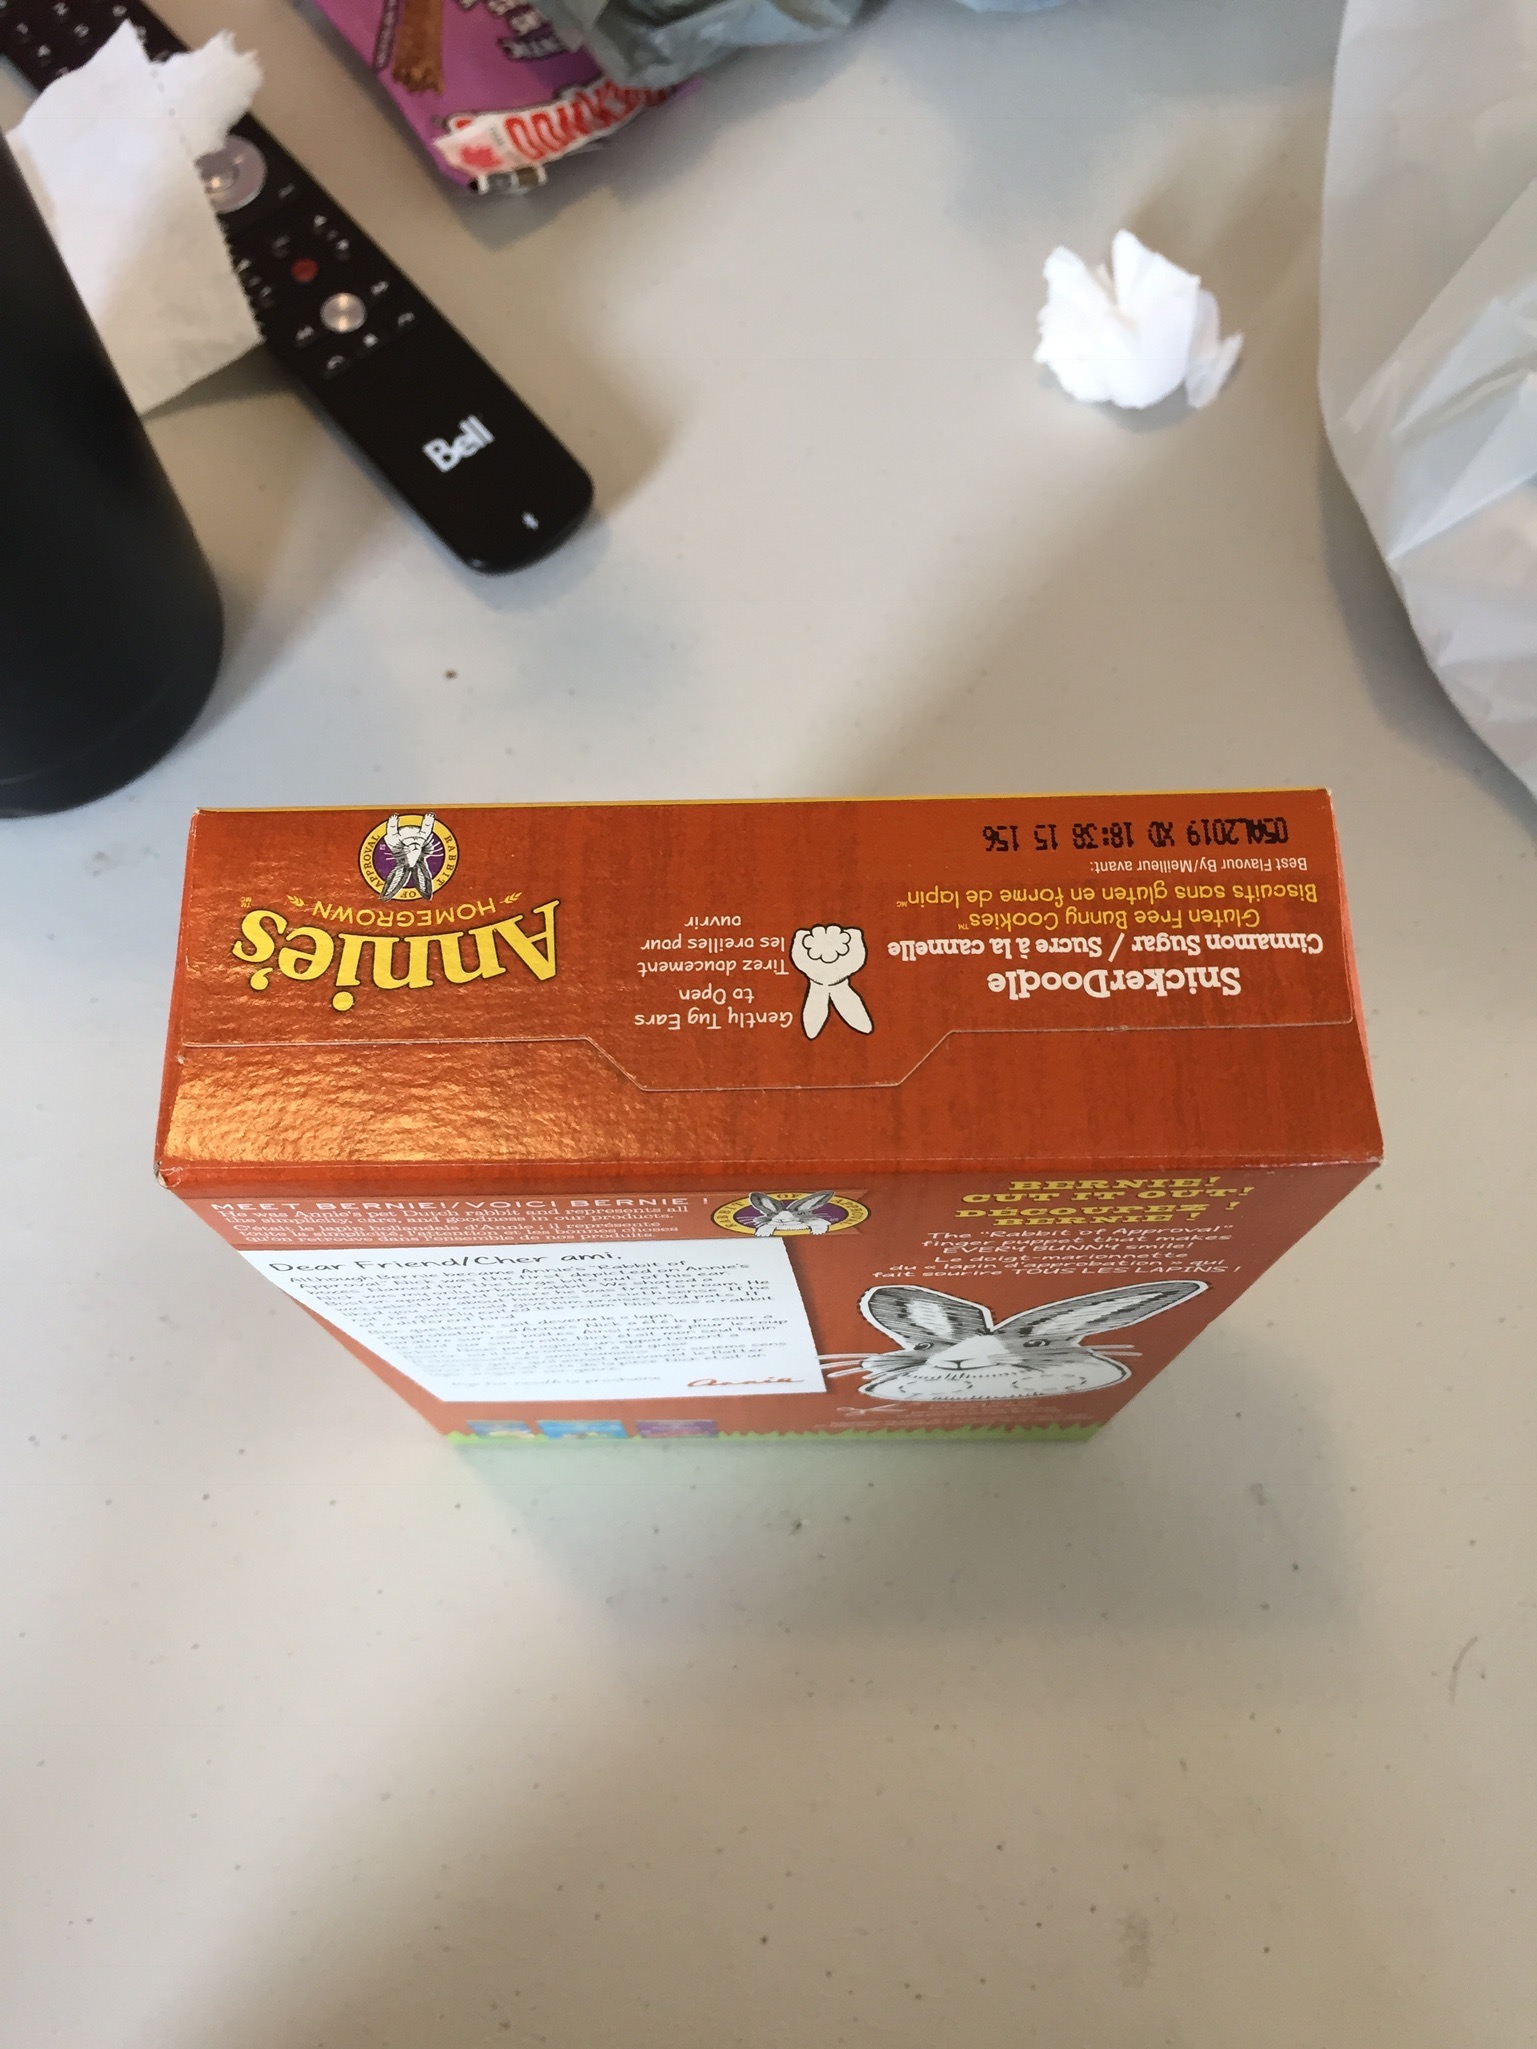annies_snickerdoodle_cinnamon_sugar: (191, 815, 1338, 1142)
